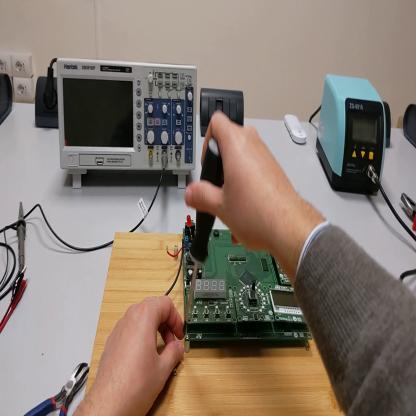hand: (186, 110, 293, 258), (89, 296, 185, 415)
low voltage board: (166, 215, 314, 354)
oscilloscope: (57, 57, 199, 191)
oscilloscope probe tip: (18, 201, 30, 272)
pliers: (26, 359, 90, 416), (402, 192, 415, 229)
screwdriver-: (184, 145, 224, 335)
socket: (37, 77, 60, 128), (1, 72, 14, 125), (404, 101, 416, 149), (383, 101, 393, 148)
welder station: (316, 76, 387, 197)
working area: (84, 233, 344, 416)
